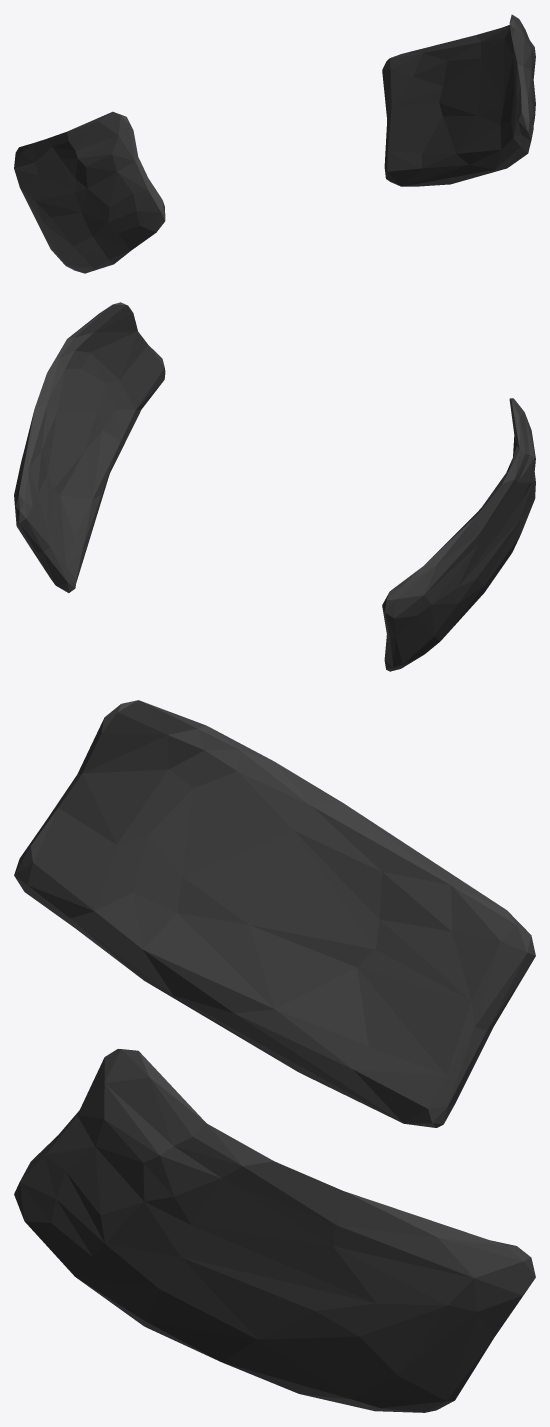
The model's file is m_mentalis.glb.
3 views of the same model, one above another, from view 1: azimuth 30°, elevation 25°; view 2: azimuth 150°, elevation 25°; view 3: azimuth 270°, elevation 25° (orthographic). The views are drawn at different scales.
Parts seen in each view (by area): view 1: m_mentalis; view 2: m_mentalis; view 3: m_mentalis.
Part boxes in pixels (<box>): m_mentalis: <box>14,14,535,273</box>; m_mentalis: <box>14,302,535,671</box>; m_mentalis: <box>14,700,535,1412</box>.
Bounding box in the file's own units: 0.00126 × 0.000568 × 0.000682.
Materials: 1 (1 with a texture image).
